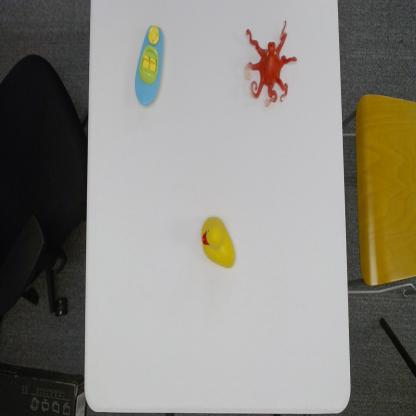Boat: (134, 21, 165, 110)
Duck: (200, 212, 237, 272)
Octopus: (242, 21, 299, 108)
